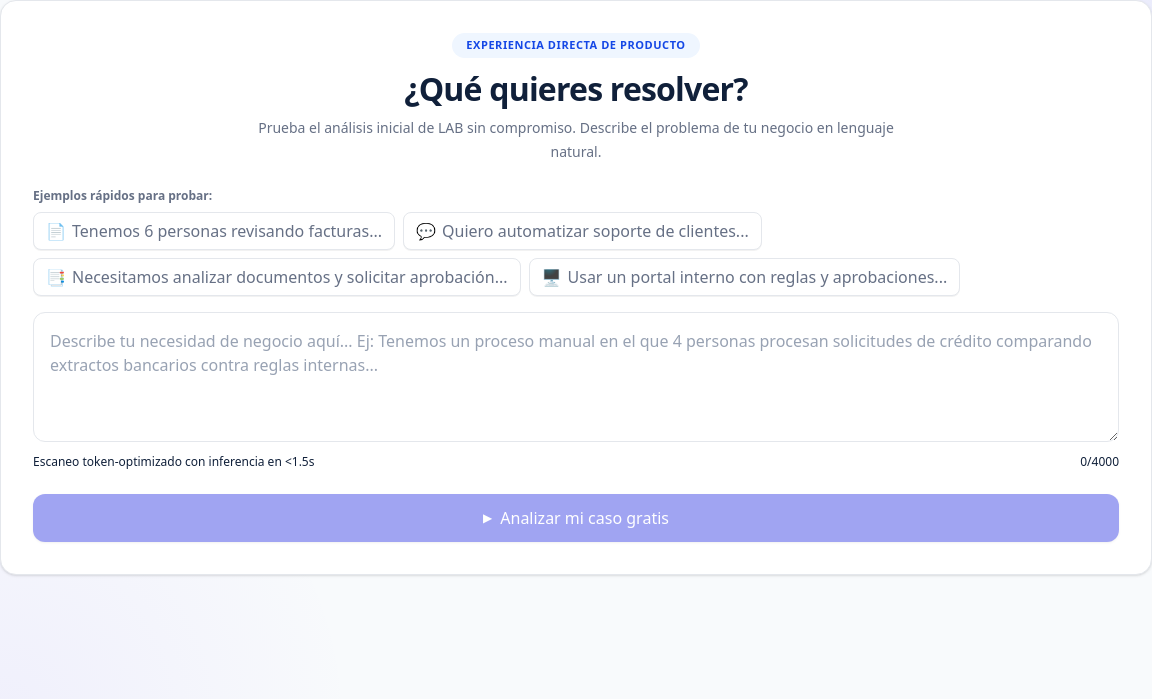
InitiativeEvaluator Component › displays strategic alternative card for non-viable initiative
Type "Calculadora simple de impuestos" into the text box with placeholder "Describe tu necesidad de negocio aquí" at (576, 377), box [33,312,1119,442]
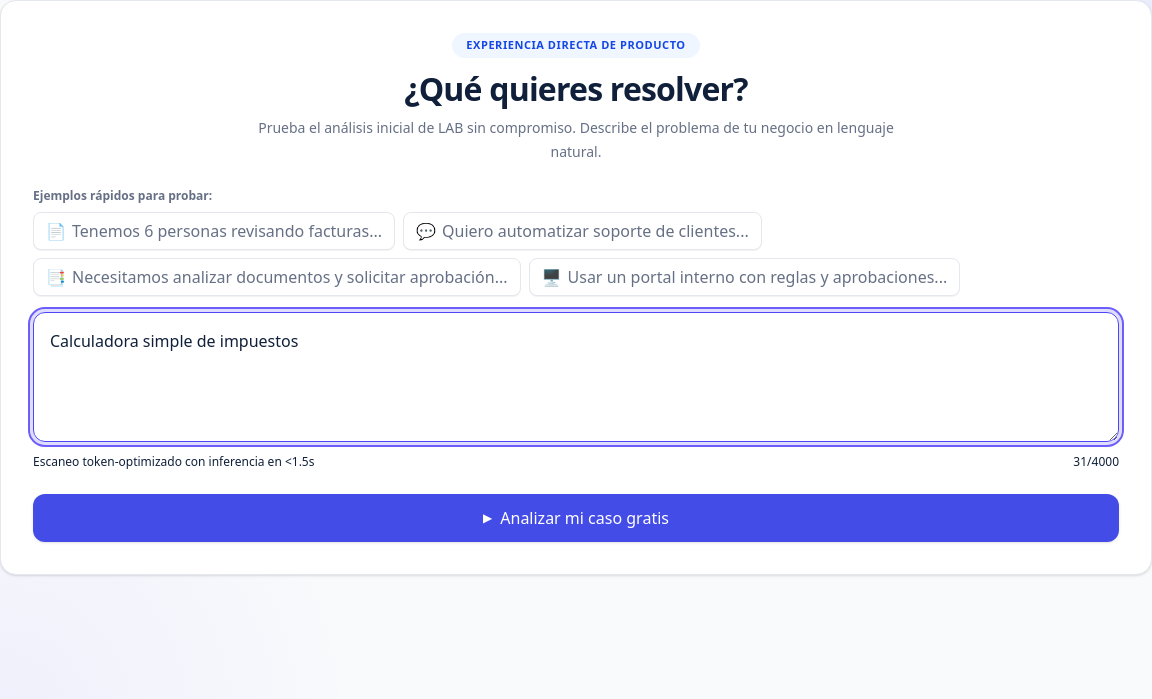
Click the text "Analizar mi caso gratis" at (585, 518), box [500,506,669,530]
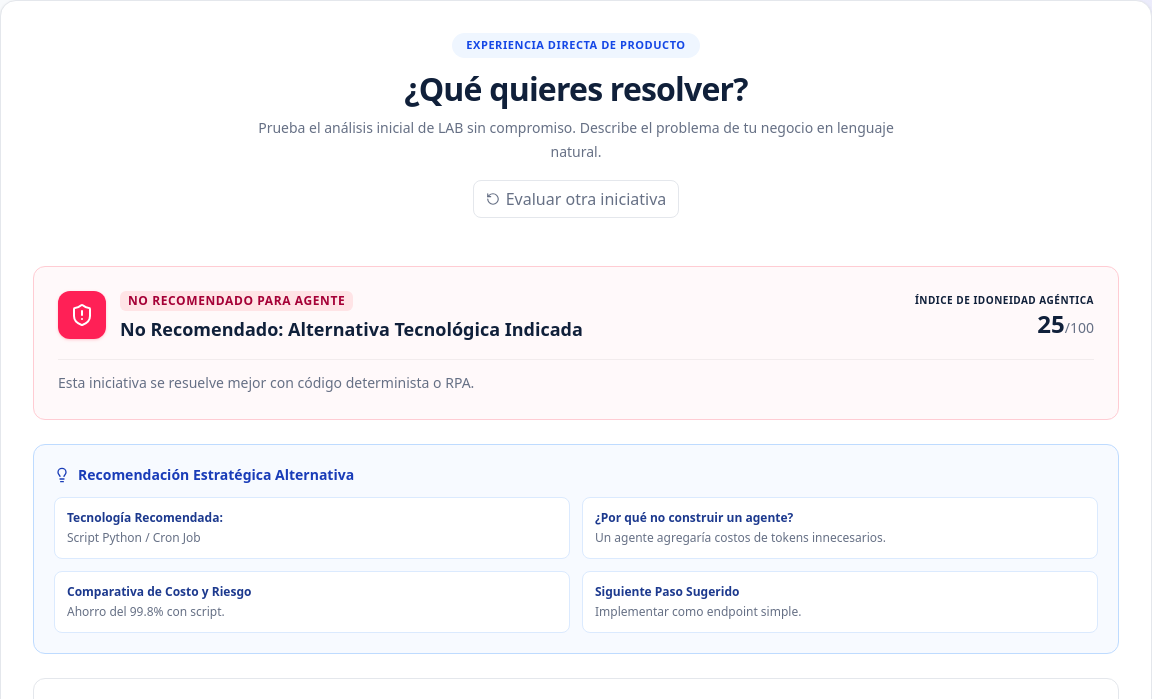
Now the text "Recomendación Estratégica Alternativa" is shown, box [78,465,354,485]
Now the text "Script Python / Cron Job" is shown, box [67,529,201,546]
Now the text "Un agente agregaría costos de tokens innecesarios." is shown, box [595,529,886,546]
